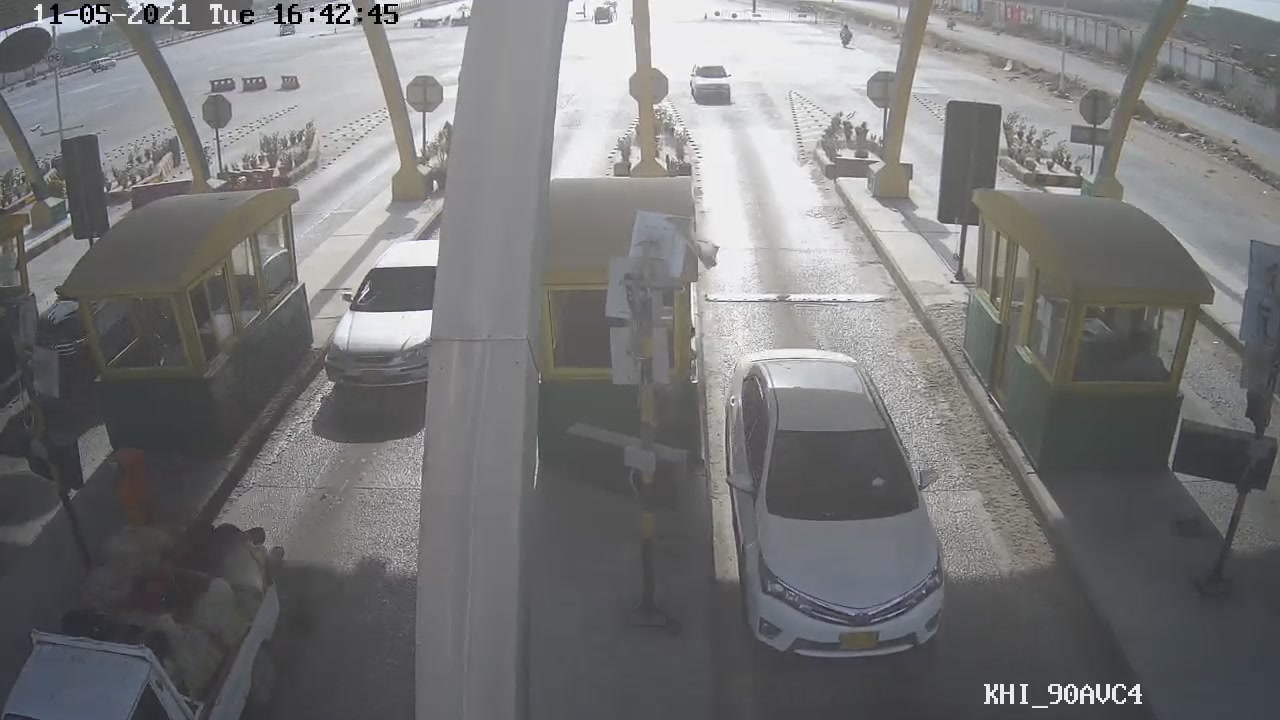F1: (710, 343, 951, 660)
